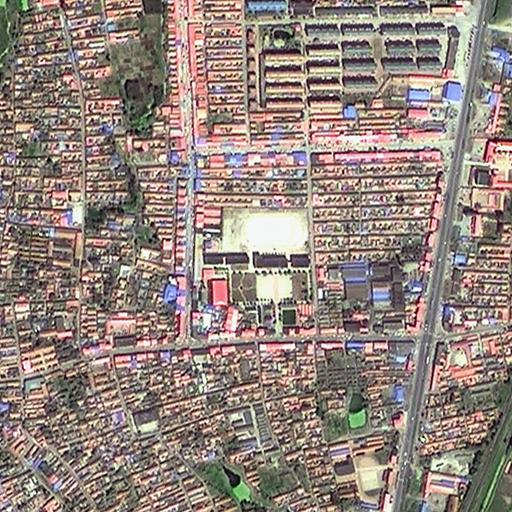school: (227, 209, 313, 306), (328, 434, 391, 500)
